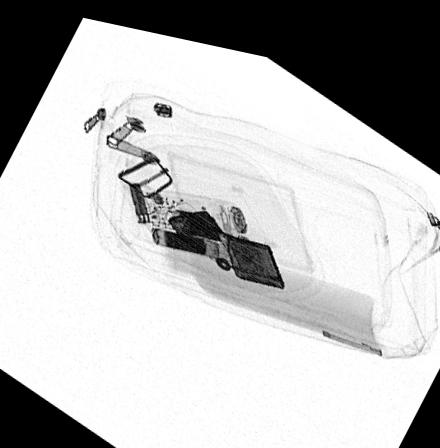Lighter: (166, 200, 285, 276)
